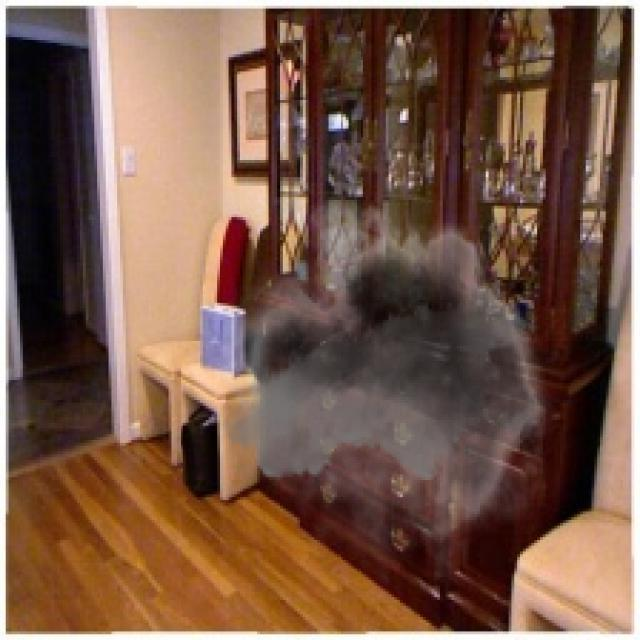Smoke: (223, 183, 566, 586)
